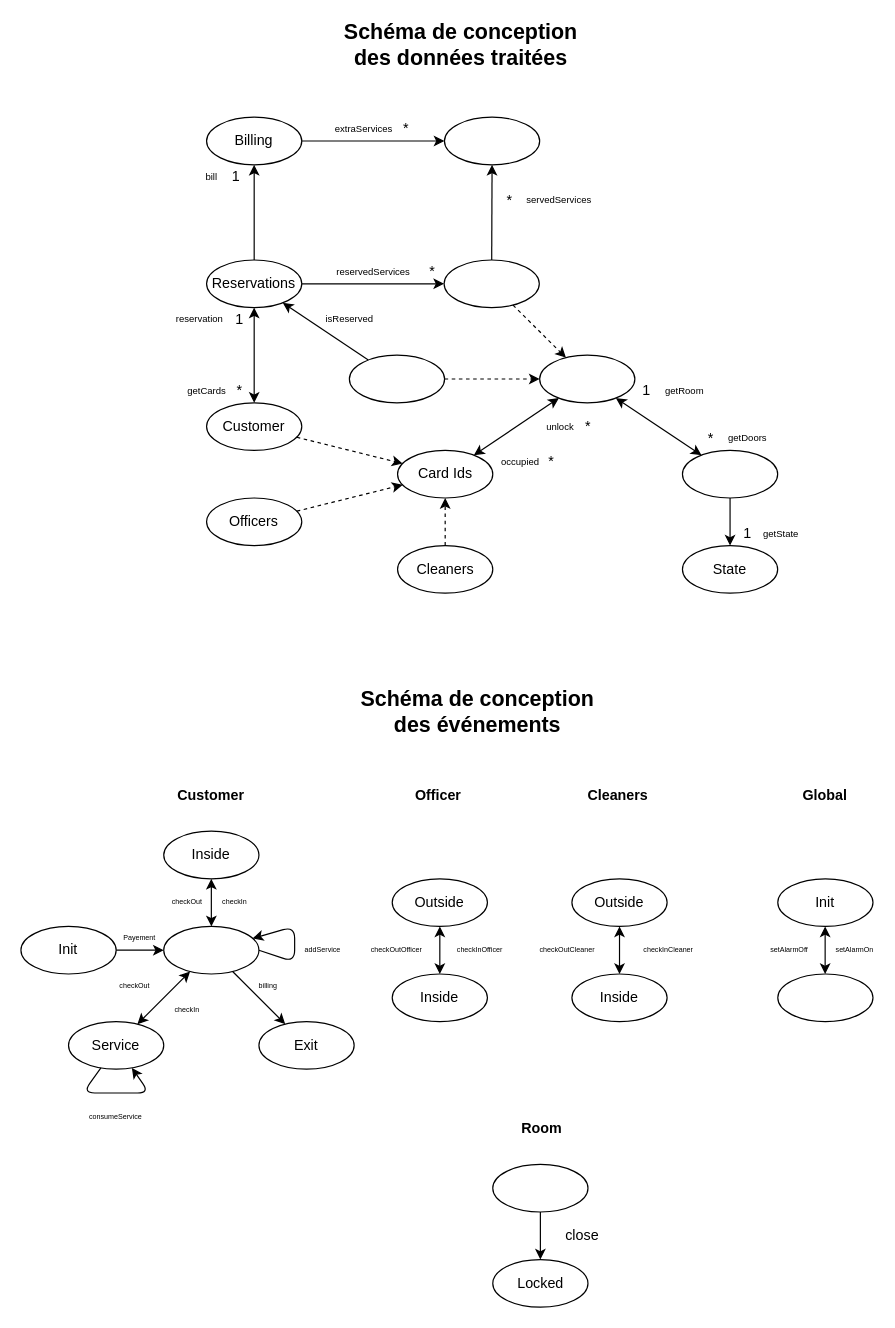
Some shapes in this 895 by 1328 pixel diagram are drawn without their labels. The box of each missing label's shape, as (x1, y1, x2, y2) in pixels:
Alarm: (777, 973, 873, 1022)
Bedrooms: (348, 354, 445, 403)
Doors: (681, 449, 778, 498)
Reserved: (163, 925, 259, 974)
Rooms: (538, 354, 635, 403)
Services: (443, 116, 540, 165)
Services Room: (443, 259, 539, 308)
Unlocked: (492, 1163, 588, 1212)
